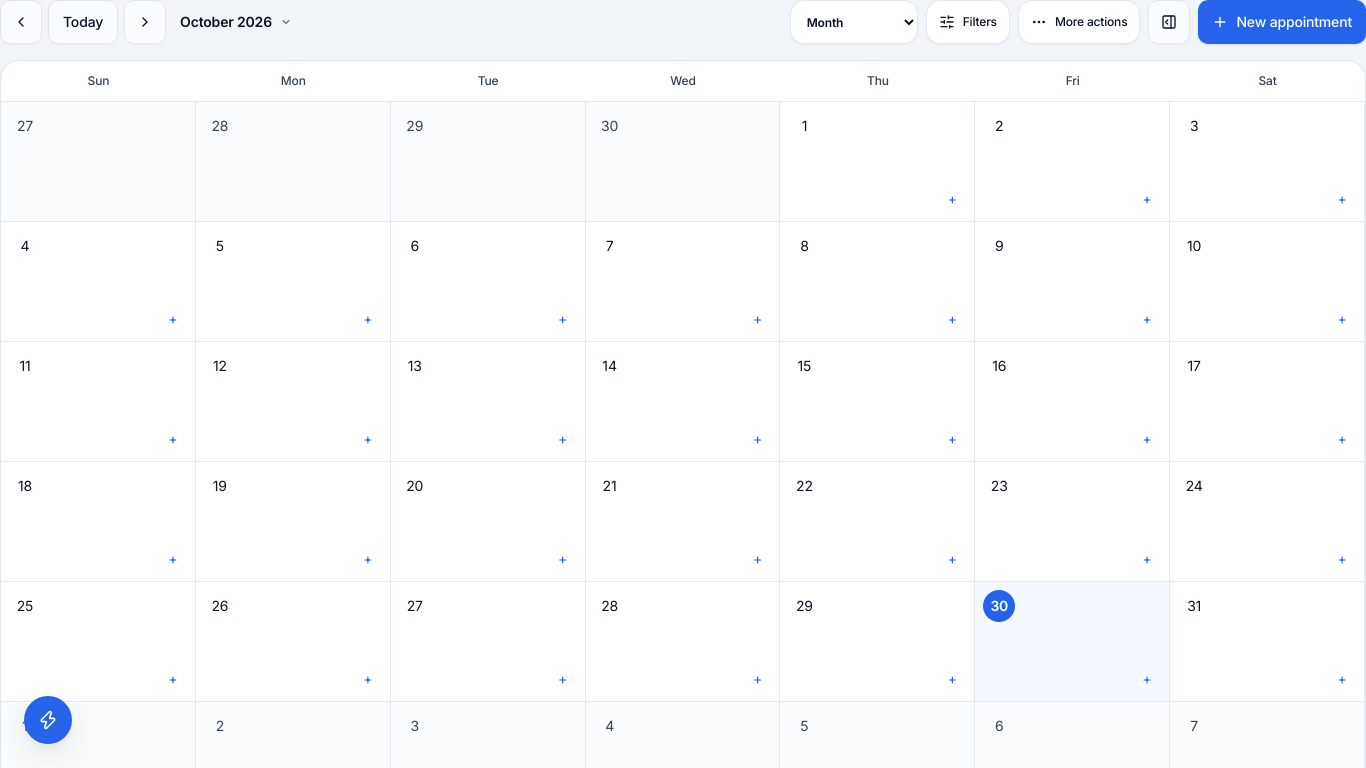
Test: Calendar routes into the real Booking Sheet › keeps Month date navigation distinct from keyboard creation with no time
Click the button named "Open October 12": (220, 366) [204, 350, 236, 382]
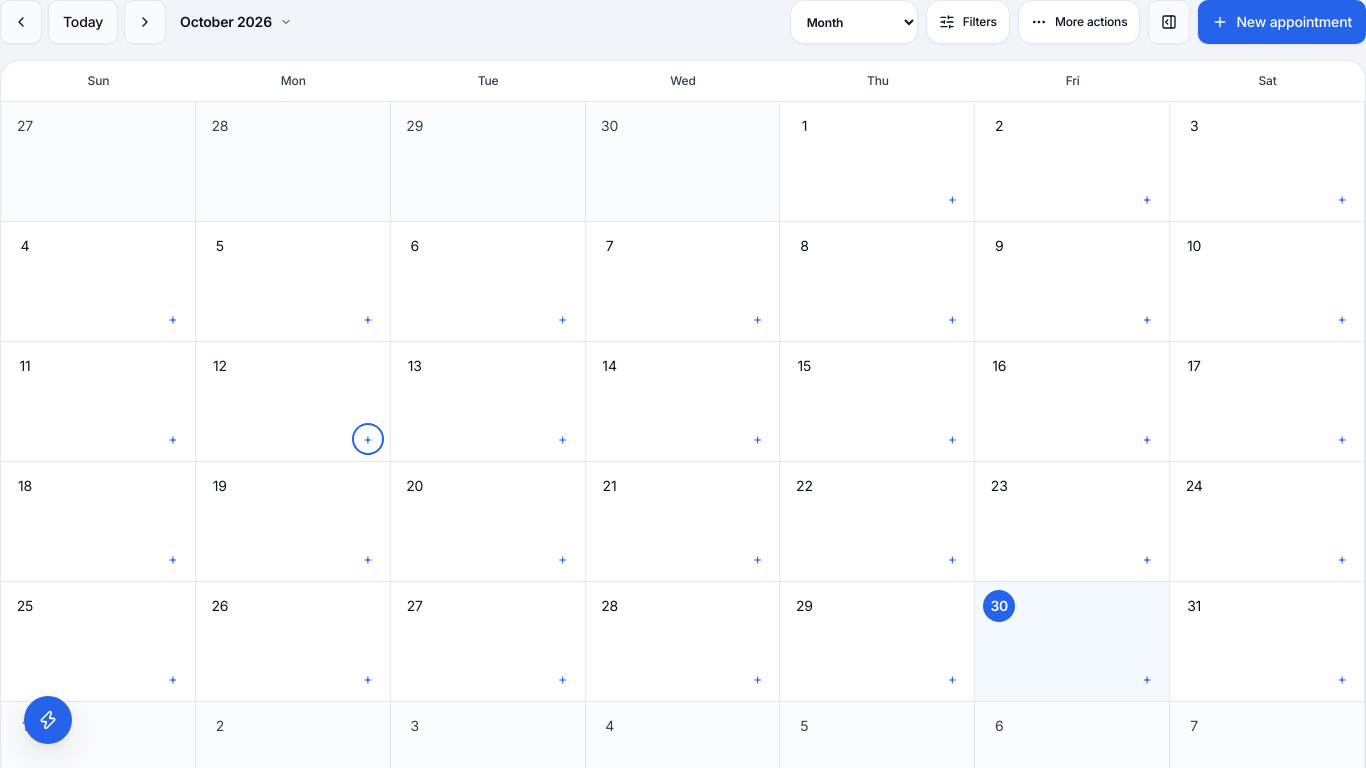
Press Enter
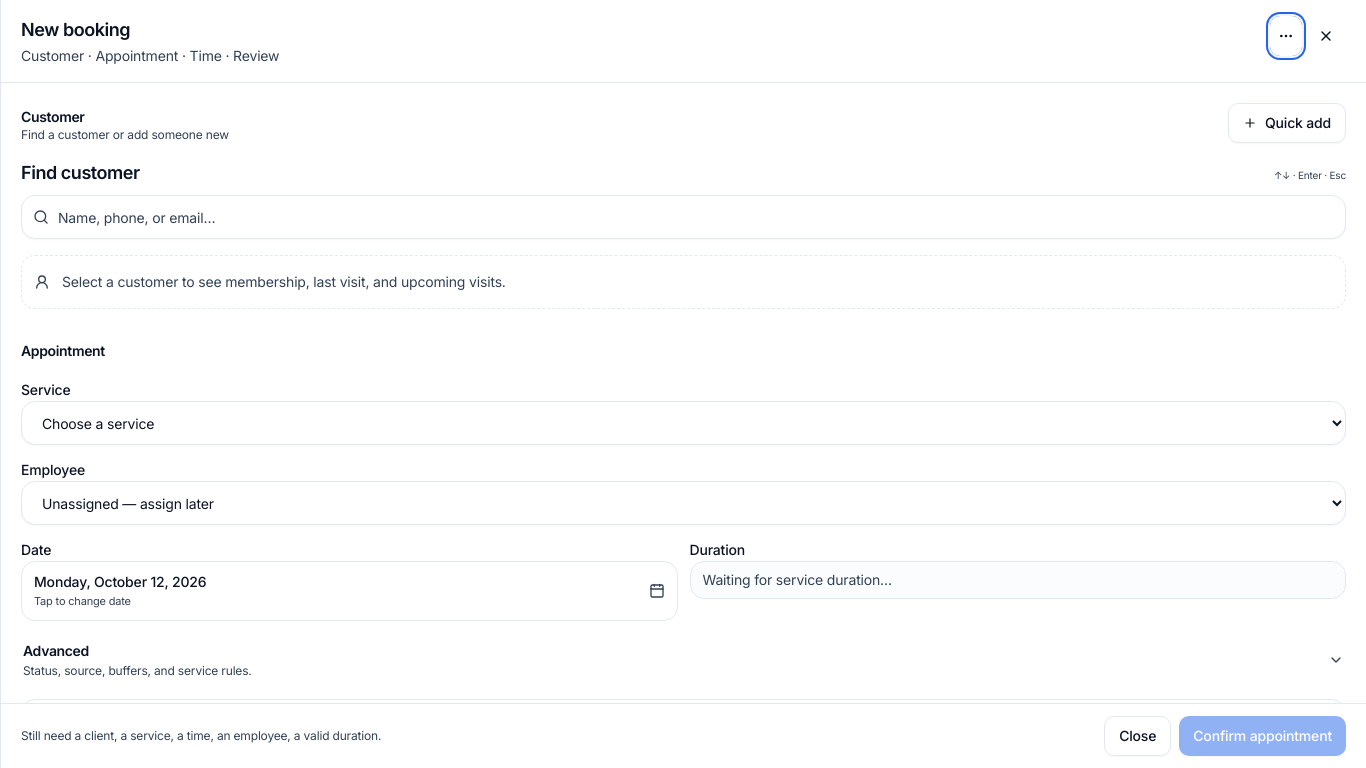
Now the dialog is shown
Now the element named "date" holds "2026-10-12", box [21, 537, 678, 621]
Now the form named "start_time" is empty, box [21, 716, 1346, 756]
